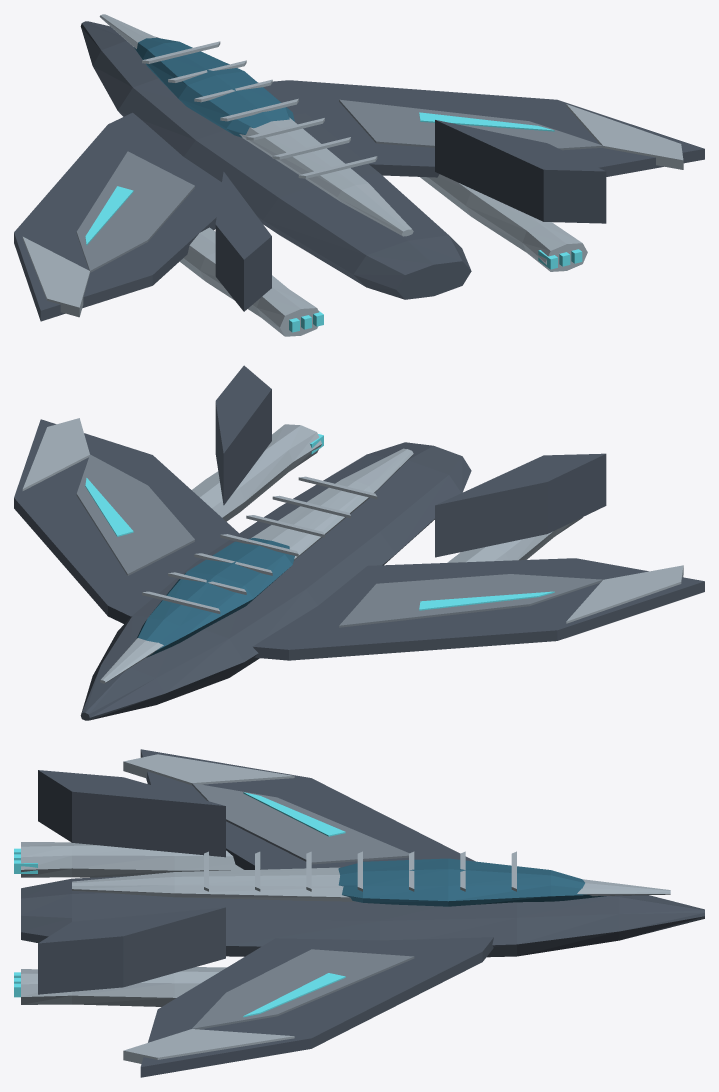
The model's file is noir_interceptor.glb.
3 views of the same model, one above another, from view 1: azimuth 30°, elevation 25°; view 2: azimuth 150°, elevation 25°; view 3: azimuth 270°, elevation 25° (orthographic).
Visible parts, largest first — view 1: faceted_main_hull, wing_-1, wing_1, vertical_stabilizer_1, wing_panel_-1, cockpit_glass, titanium_spine, vertical_stabilizer_-1, wing_panel_1, nacelle_1, nacelle_-1, wing_edge_1 (+3 smaller); view 2: faceted_main_hull, wing_-1, wing_1, vertical_stabilizer_-1, cockpit_glass, wing_panel_-1, wing_panel_1, vertical_stabilizer_1, titanium_spine, nacelle_1, wing_edge_-1, wing_edge_1 (+3 smaller); view 3: faceted_main_hull, wing_1, vertical_stabilizer_1, vertical_stabilizer_-1, cockpit_glass, wing_-1, titanium_spine, wing_panel_1, wing_panel_-1, nacelle_-1, nacelle_1, wing_edge_-1 (+3 smaller).
Boxes of the visible parts, x1,y1,x2,y2 form: faceted_main_hull: [80, 21, 471, 299]; wing_-1: [14, 112, 221, 321]; wing_1: [258, 80, 704, 177]; vertical_stabilizer_1: [435, 120, 606, 223]; wing_panel_-1: [76, 151, 194, 272]; cockpit_glass: [134, 38, 294, 137]; titanium_spine: [99, 14, 413, 236]; vertical_stabilizer_-1: [215, 172, 271, 311]; wing_panel_1: [339, 99, 603, 150]; nacelle_1: [420, 174, 587, 271]; nacelle_-1: [180, 227, 318, 336]; wing_edge_1: [566, 104, 683, 169]; faceted_main_hull: [80, 442, 471, 720]; wing_-1: [253, 558, 704, 660]; wing_1: [14, 419, 238, 623]; vertical_stabilizer_-1: [435, 453, 606, 557]; cockpit_glass: [137, 538, 294, 657]; wing_panel_-1: [339, 574, 602, 627]; wing_panel_1: [76, 454, 194, 575]; vertical_stabilizer_1: [215, 365, 271, 505]; titanium_spine: [100, 448, 413, 683]; nacelle_1: [192, 424, 321, 521]; wing_edge_-1: [566, 565, 683, 623]; wing_edge_1: [22, 418, 89, 490]; faceted_main_hull: [21, 876, 704, 957]; wing_1: [140, 937, 493, 1077]; vertical_stabilizer_1: [38, 907, 225, 994]; vertical_stabilizer_-1: [38, 770, 225, 857]; cockpit_glass: [338, 858, 606, 906]; wing_-1: [140, 749, 475, 869]; titanium_spine: [72, 867, 670, 901]; wing_panel_1: [192, 949, 414, 1029]; wing_panel_-1: [192, 783, 409, 864]; nacelle_-1: [21, 842, 243, 877]; nacelle_1: [21, 967, 226, 1006]; wing_edge_-1: [123, 754, 294, 785].
Bounding box in the file's own units: 44 × 5.3 × 40.4.
